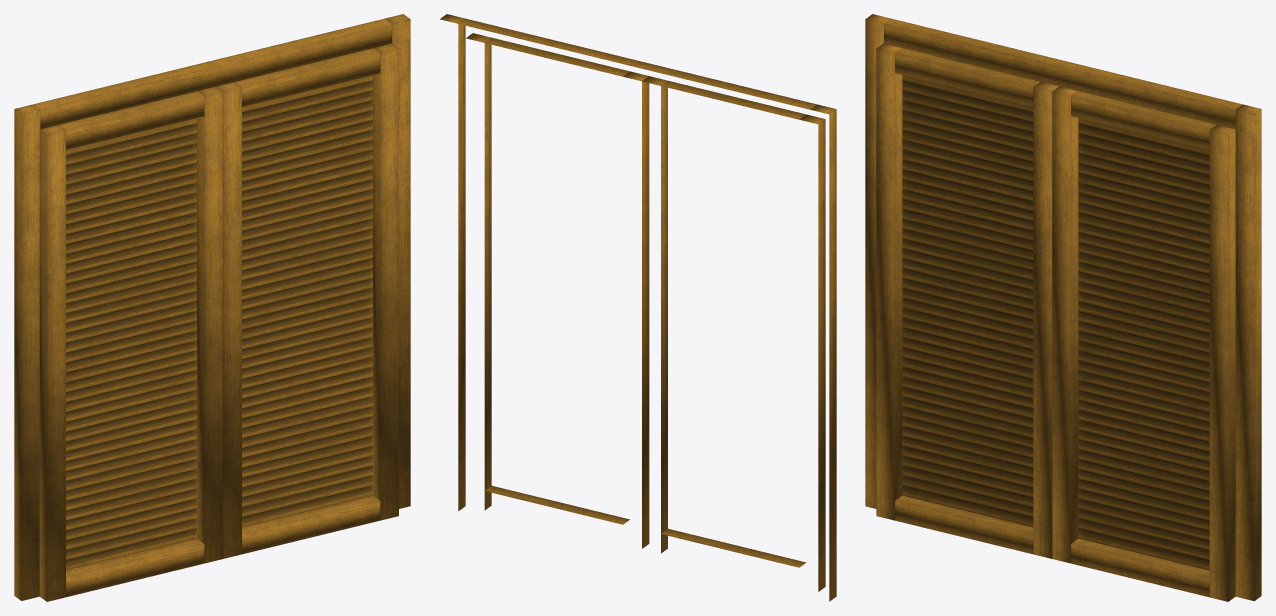
Rendered from exterior_blind.glb.
The picture shows the model from 3 angles, left to right: view 1: azimuth 30°, elevation 25°; view 2: azimuth 150°, elevation 25°; view 3: azimuth 330°, elevation 25°; orthographic projection.
Visible parts, largest first — view 1: Blind_LP; view 2: Blind_LP; view 3: Blind_LP.
Boxes of the visible parts, x1,y1,x2,y2 form: Blind_LP: [14, 14, 410, 601]; Blind_LP: [440, 14, 836, 601]; Blind_LP: [865, 14, 1261, 601].
Size of the model in its own units: 124 by 148 by 8.
1 material, 1 textured.
